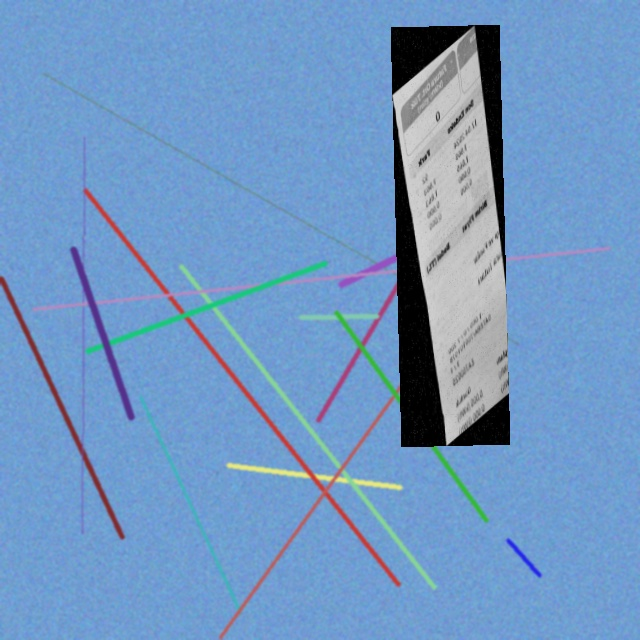electricity-bill: (390, 25, 510, 447)
